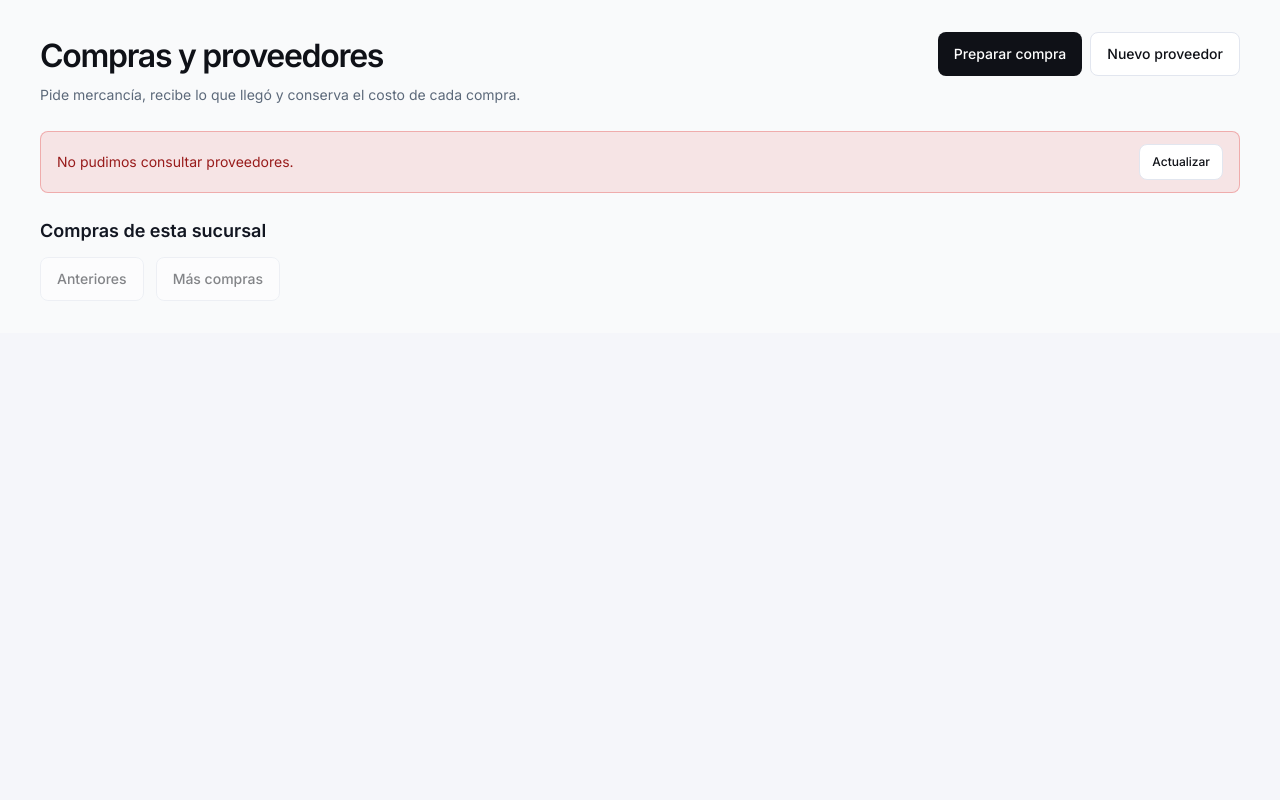
Test: keeps a load failure distinct from empty results and clears it after a successful retry
Check: the message shows "No pudimos consultar proveedores.", box [57, 153, 294, 170]
Check: the text "Agrega tu primer proveedor para preparar una compra." is not shown
Click the button "Actualizar": (1181, 162) [1139, 144, 1223, 180]
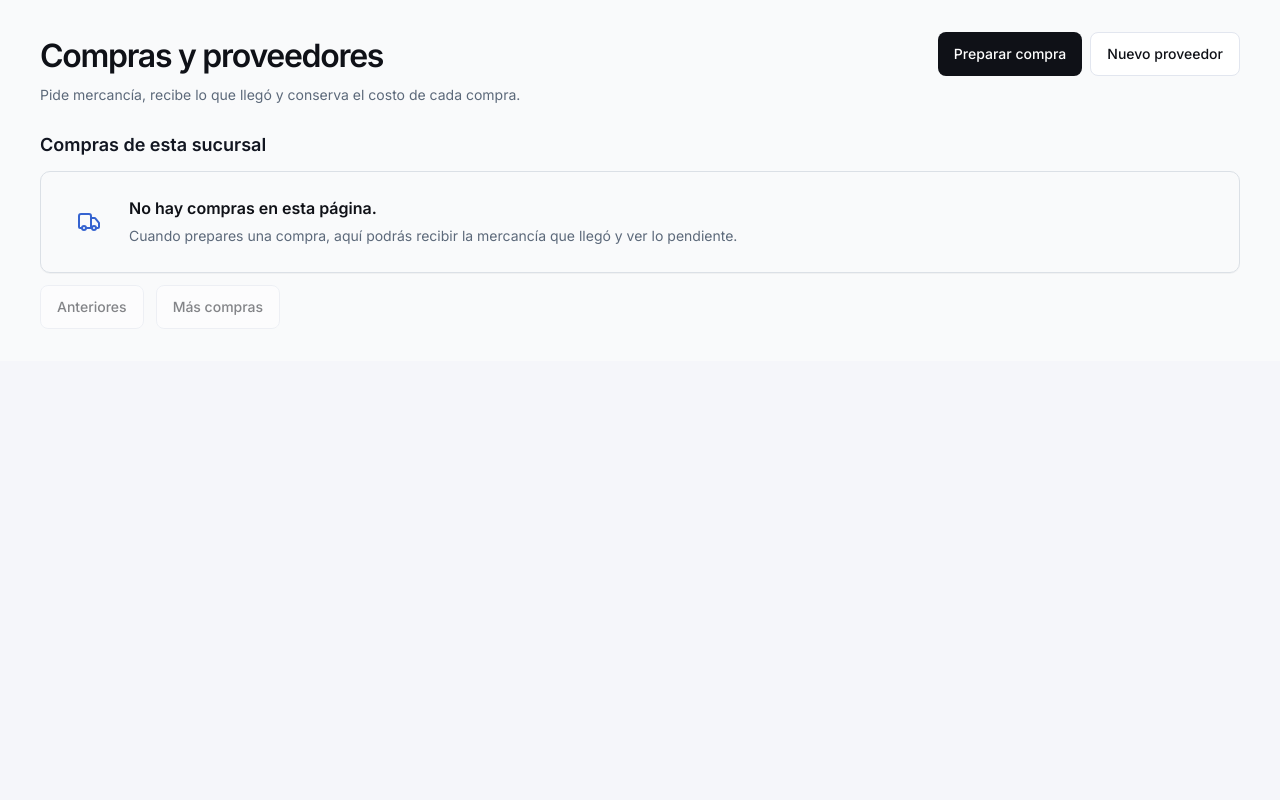
Check: the message "No pudimos consultar proveedores. Actualizar" is gone
Click the button "Nuevo proveedor": (1165, 54) [1090, 32, 1240, 76]
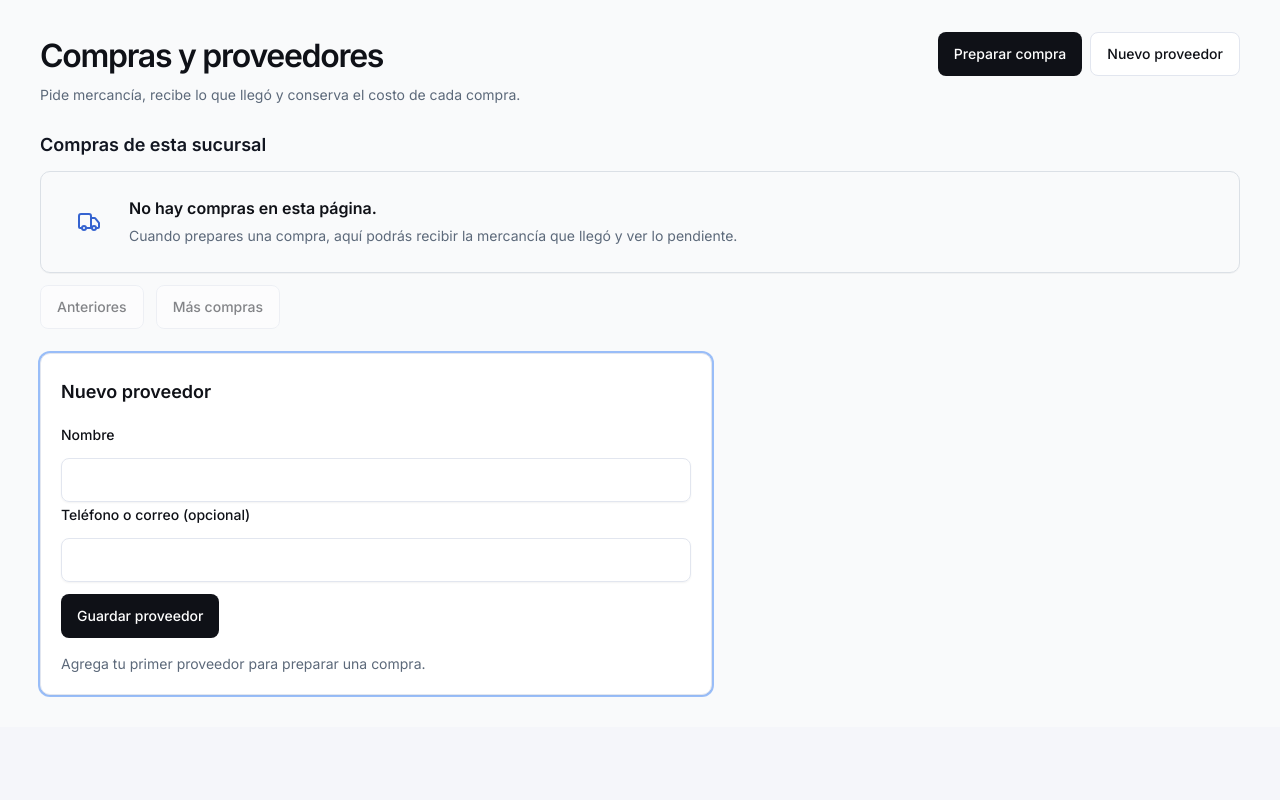
Check: the text "Agrega tu primer proveedor para preparar una compra." is shown, box [61, 655, 426, 672]
